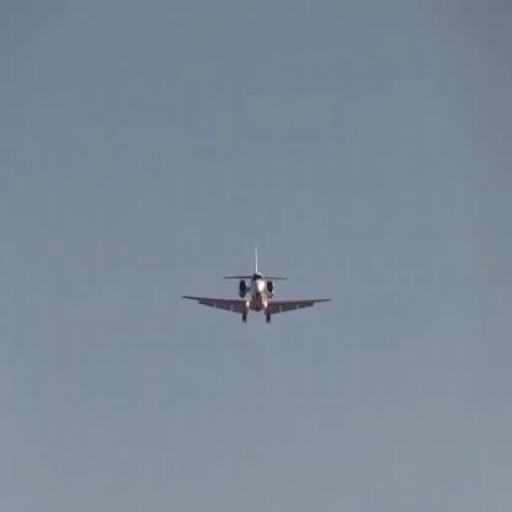aircraft: (182, 249, 334, 326)
